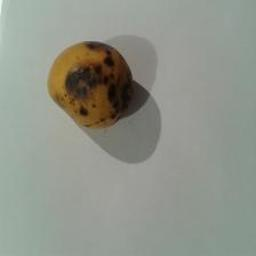Mango Rotten: (43, 33, 139, 138)
